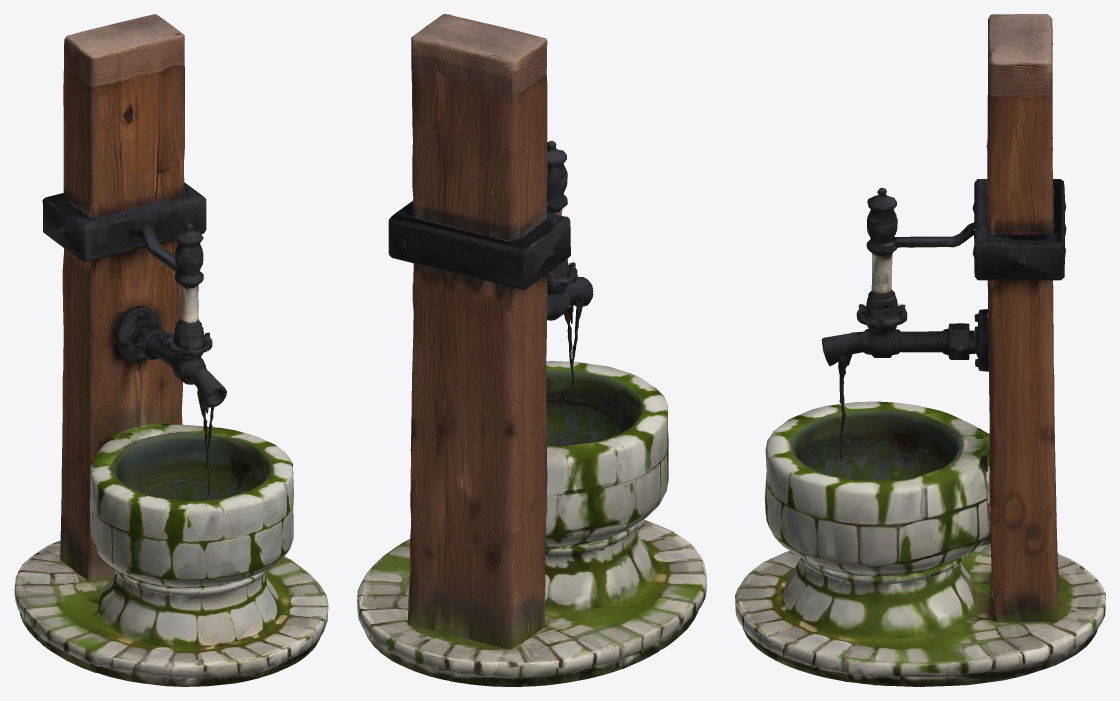
File: well-pump.glb
The picture shows the model from 3 angles, left to right: view 1: azimuth 30°, elevation 25°; view 2: azimuth 150°, elevation 25°; view 3: azimuth 270°, elevation 25°; orthographic projection. The views are drawn at different scales.
Visible parts, largest first — view 1: Mesh_0; view 2: Mesh_0; view 3: Mesh_0.
Boxes of the visible parts, x1,y1,x2,y2 form: Mesh_0: [14, 14, 328, 686]; Mesh_0: [357, 14, 706, 686]; Mesh_0: [735, 14, 1105, 686].
Size of the model in its own units: 0.9307 by 1.9 by 1.09.
1 material, 1 textured.
